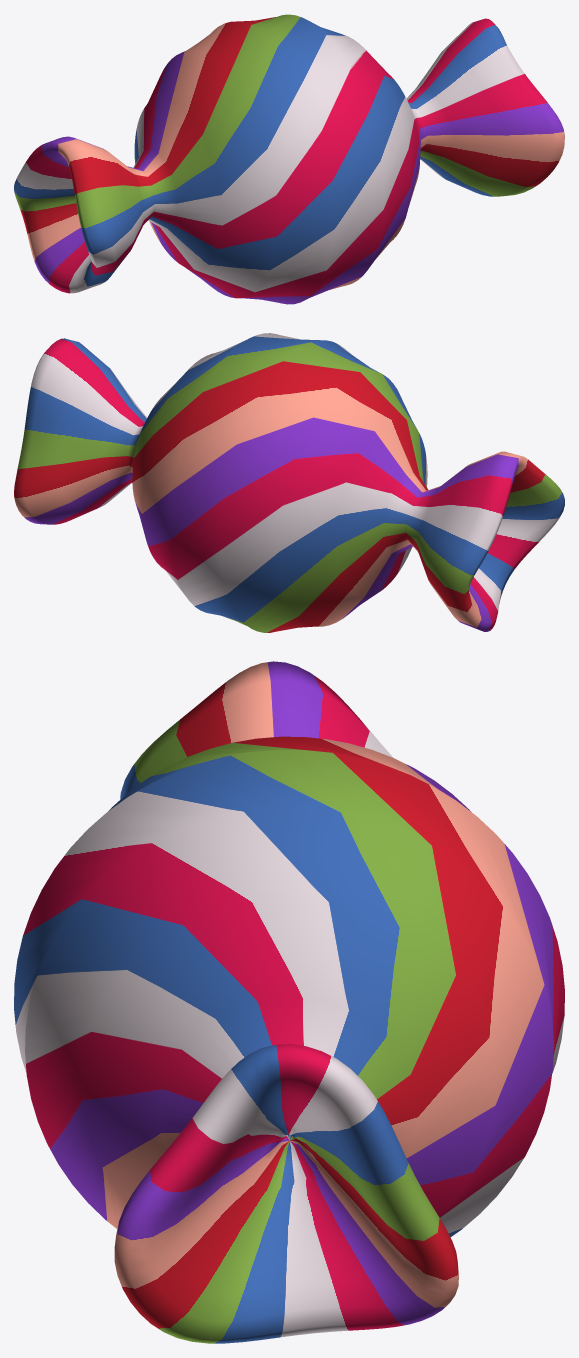
File: B-5_Onstick.fbx
3 renders of one model, top to bottom at view 1: azimuth 30°, elevation 25°; view 2: azimuth 150°, elevation 25°; view 3: azimuth 270°, elevation 25°, orthographic. The views are drawn at different scales.
Visible parts, largest first — view 1: B-5; view 2: B-5; view 3: B-5.
Part boxes in pixels (box(x1,y1,x2,y2)): B-5: box(14, 14, 564, 304); B-5: box(14, 333, 564, 632); B-5: box(14, 661, 564, 1343).
Bounding box in the file's own units: 1.4 × 0.732 × 0.732.
Materials: 1 (1 with a texture image).
